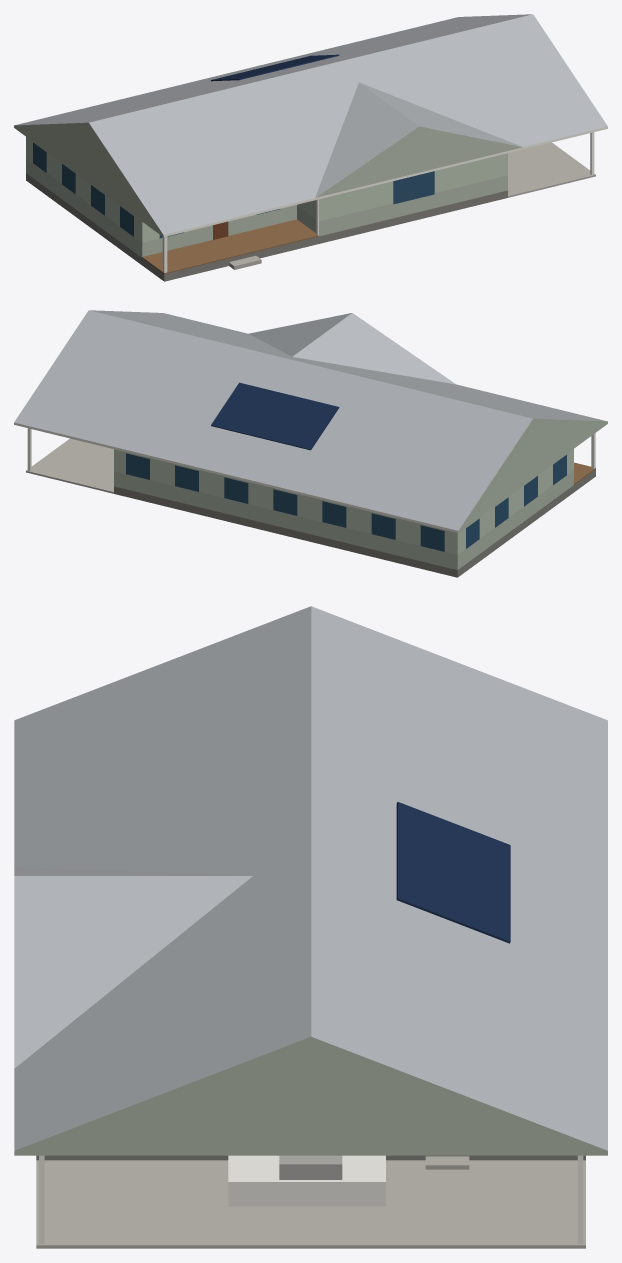
File: house_27x15_lod1.glb
3 renders of one model, top to bottom at view 1: azimuth 30°, elevation 25°; view 2: azimuth 150°, elevation 25°; view 3: azimuth 270°, elevation 25°, orthographic. The views are drawn at different scales.
Visible parts, largest first — view 1: house; view 2: house; view 3: house.
Part boxes in pixels (x1=…): house: x1=14, y1=14, x2=607, y2=281; house: x1=14, y1=310, x2=607, y2=577; house: x1=14, y1=606, x2=607, y2=1248.
Bounding box in the file's own units: 27.8 × 6.57 × 16.21.
